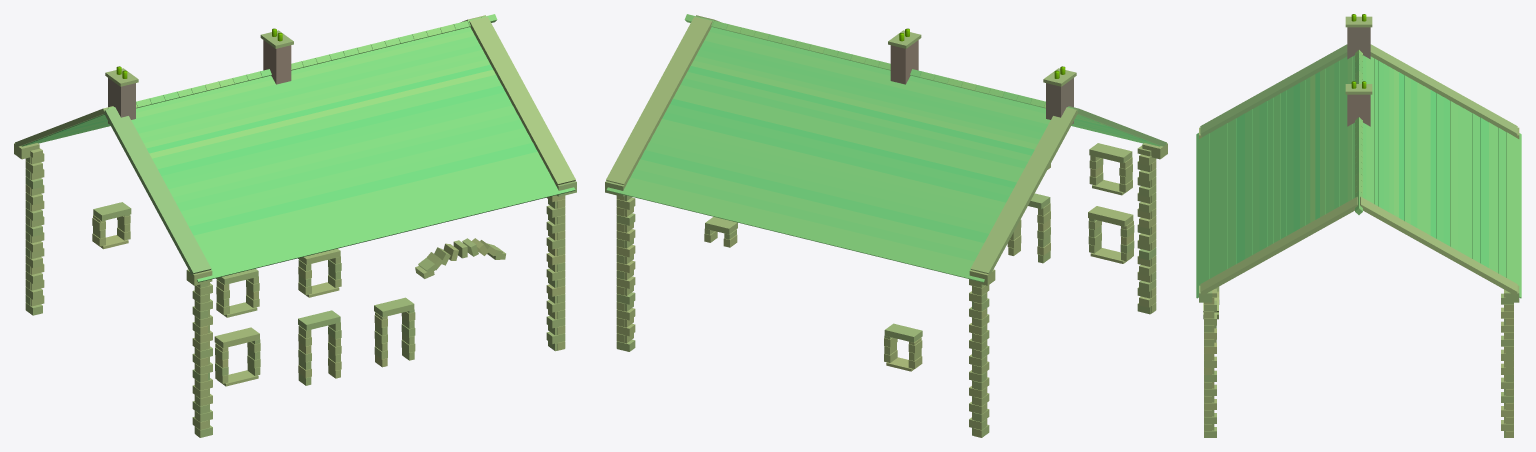
Rendered from SM_Bld_034_Stone.glb.
3 renders of one model, left to right at view 1: azimuth 30°, elevation 25°; view 2: azimuth 150°, elevation 25°; view 3: azimuth 270°, elevation 25°, orthographic. The views are drawn at different scales.
Parts seen in each view (by area): view 1: SM_Bld_034_Stone; view 2: SM_Bld_034_Stone; view 3: SM_Bld_034_Stone.
Boxes of the visible parts, x1,y1,x2,y2 form: SM_Bld_034_Stone: (14,14,576,437); SM_Bld_034_Stone: (605,14,1167,437); SM_Bld_034_Stone: (1196,14,1521,437).
Size of the model in its own units: 15.55 by 11.49 by 12.61.
